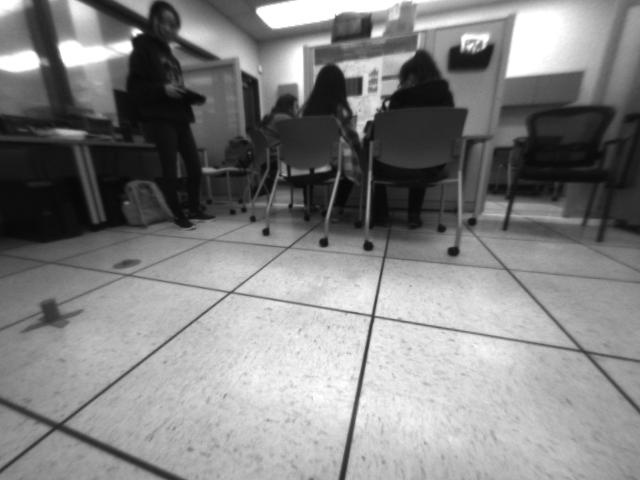X: (19, 297, 83, 333)
